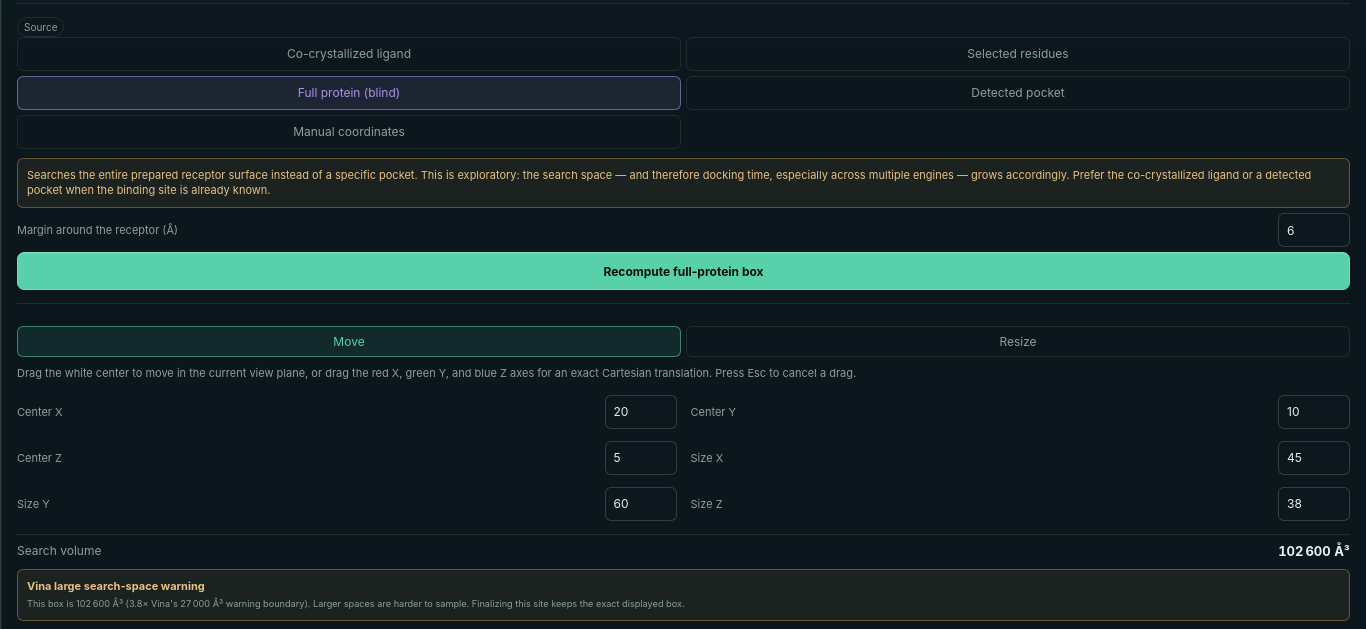
Test: shows druggability as magnitude, never as a verdict
(page scrolled)
Expected: the number field showing "45" is shown, [1278,441,1350,475]
Click the button "Detected pocket".
click(1018, 93)  # box [686,76,1350,110]
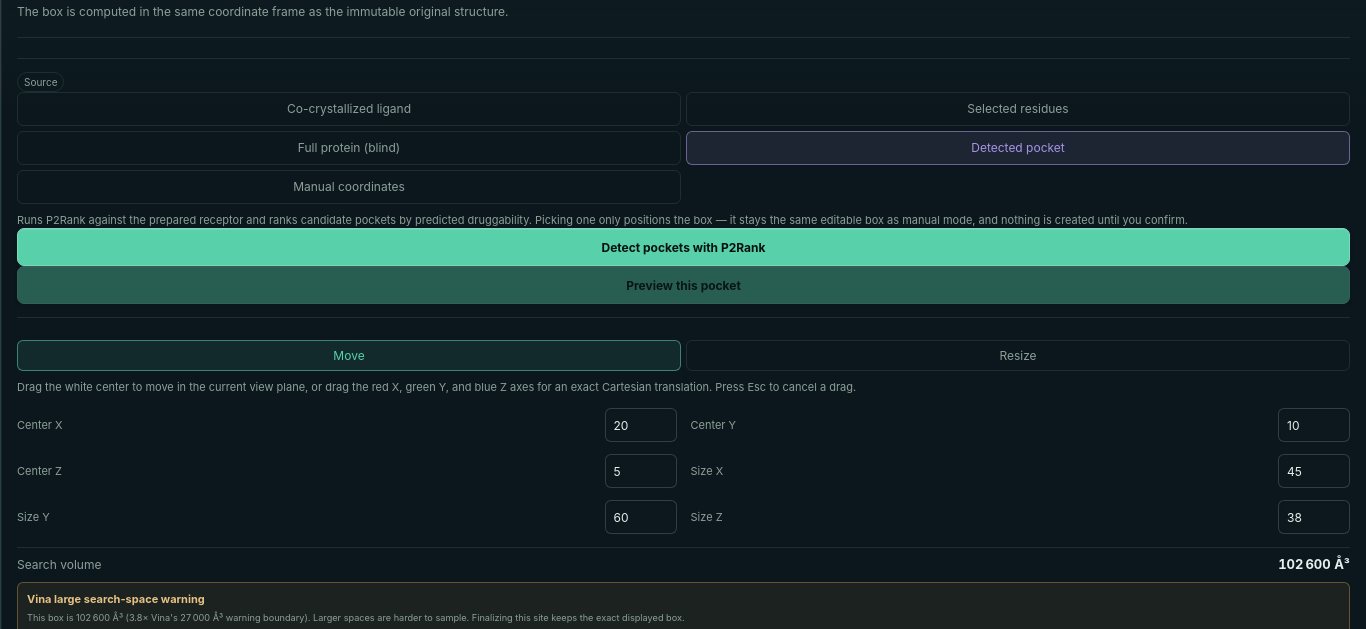
Click the button "Detect pockets with P2Rank".
click(684, 247)  # box [17,228,1350,266]
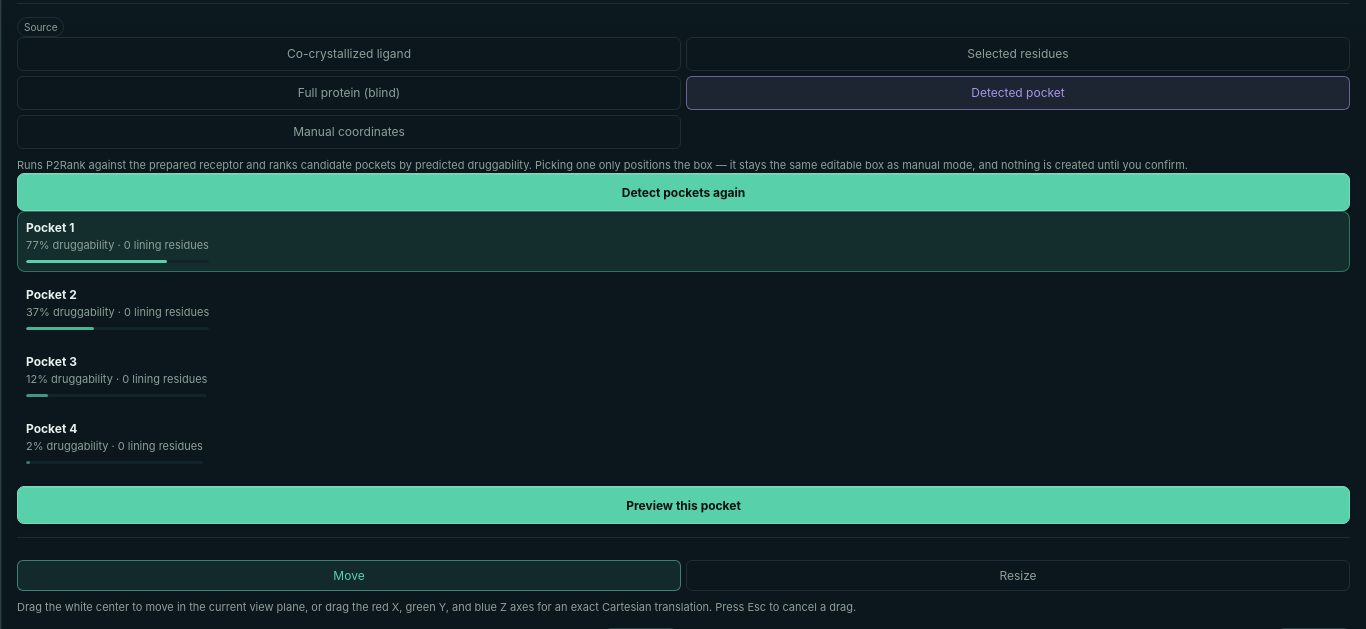
Expected: the text "77% druggability · 0 lining residues" is shown, [26,238,209,252]
Expected: the text "2% druggability · 0 lining residues" is shown, [26,439,203,453]
